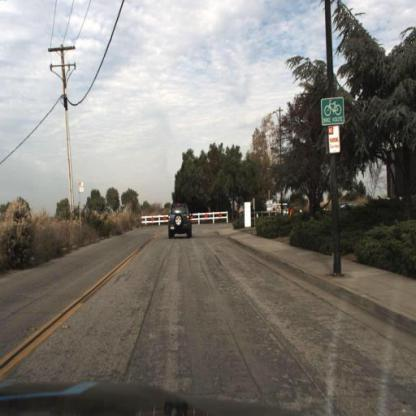car: (168, 204, 193, 238)
